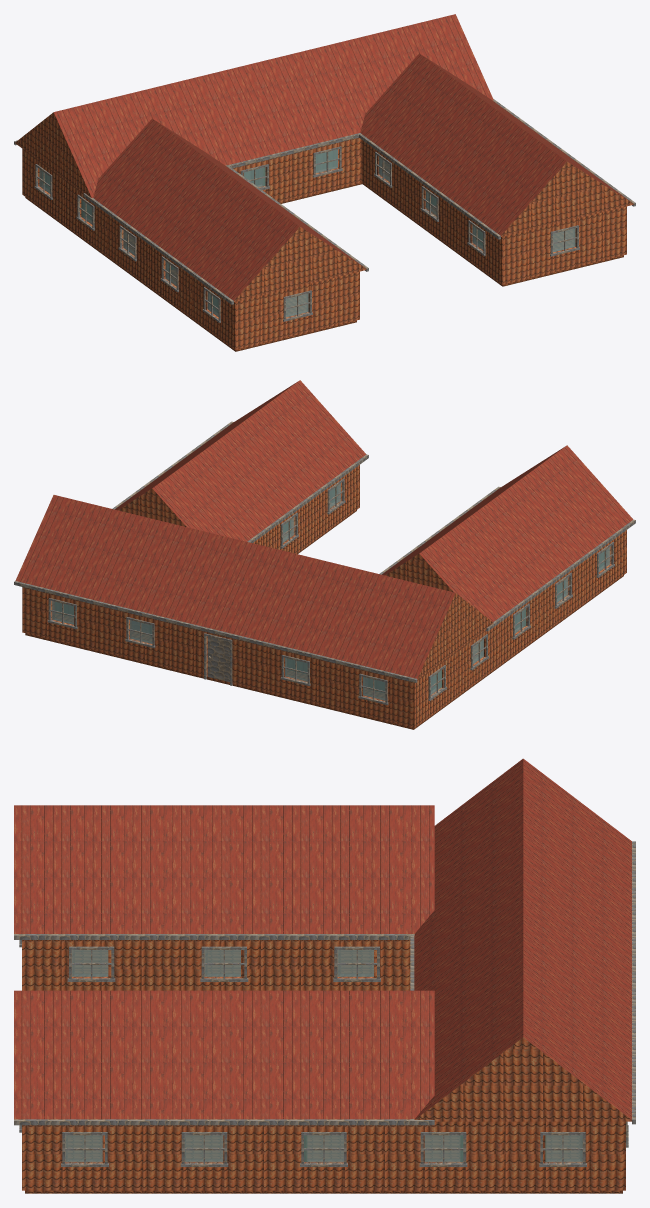
Rendered from horseshoe-stables.gltf.
3 views of the same model, one above another, from view 1: azimuth 30°, elevation 25°; view 2: azimuth 150°, elevation 25°; view 3: azimuth 270°, elevation 25° (orthographic). The views are drawn at different scales.
Parts seen in each view (by area): view 1: roof-L0-brown-shingle, exterior-L0-wood, roof-L0-wood, trim-L0-dark-wood, roof-L0-dark-wood, glazing-L0-glass, floor-L0-floor, interior-L0-interior; view 2: roof-L0-brown-shingle, exterior-L0-wood, roof-L0-wood, roof-L0-dark-wood, trim-L0-dark-wood, glazing-L0-glass, floor-L0-floor, door-leaf-L0-dark-wood, interior-L0-interior; view 3: roof-L0-brown-shingle, exterior-L0-wood, roof-L0-wood, glazing-L0-glass, floor-L0-floor, roof-L0-dark-wood, trim-L0-dark-wood.
Part boxes in pixels (x1,y1,x2,y2): roof-L0-brown-shingle: (53, 14, 631, 300); exterior-L0-wood: (22, 137, 626, 349); roof-L0-wood: (15, 112, 634, 302); trim-L0-dark-wood: (34, 146, 579, 322); roof-L0-dark-wood: (14, 99, 635, 304); glazing-L0-glass: (39, 149, 575, 317); floor-L0-floor: (25, 162, 623, 351); interior-L0-interior: (81, 150, 482, 312); roof-L0-brown-shingle: (15, 380, 633, 678); exterior-L0-wood: (22, 465, 626, 727); roof-L0-wood: (118, 488, 493, 679); roof-L0-dark-wood: (14, 421, 635, 682); trim-L0-dark-wood: (47, 478, 614, 705); glazing-L0-glass: (52, 483, 610, 700); floor-L0-floor: (25, 503, 623, 729); door-leaf-L0-dark-wood: (207, 636, 229, 682); interior-L0-interior: (55, 520, 564, 692); roof-L0-brown-shingle: (14, 758, 631, 1119); exterior-L0-wood: (22, 940, 625, 1190); roof-L0-wood: (415, 1037, 632, 1121); glazing-L0-glass: (65, 950, 582, 1162); floor-L0-floor: (25, 950, 622, 1193); roof-L0-dark-wood: (14, 841, 635, 1125); trim-L0-dark-wood: (19, 940, 628, 1166).
Bounding box in the file's own units: 16.66 × 4.46 × 15.61.
7 materials, 6 textured.
